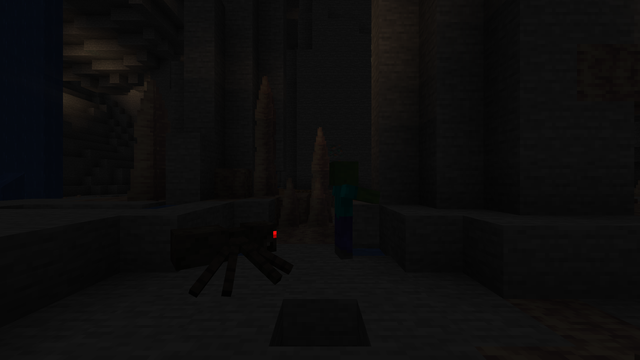araignees: (171, 215, 280, 288)
zombies: (328, 163, 358, 259)
